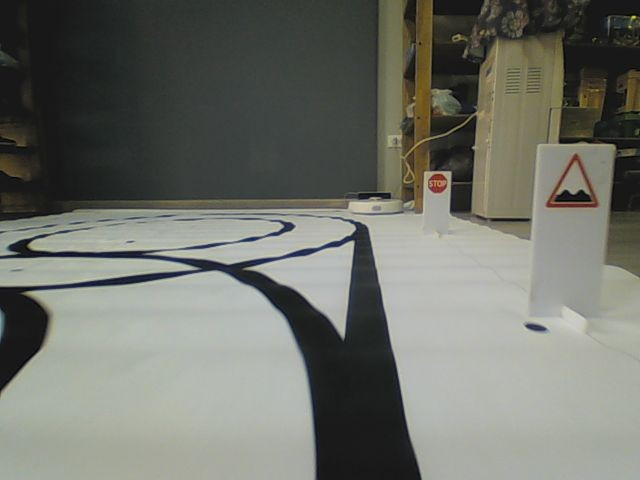Nerov: (544, 152, 599, 209)
Stop: (427, 172, 447, 195)
